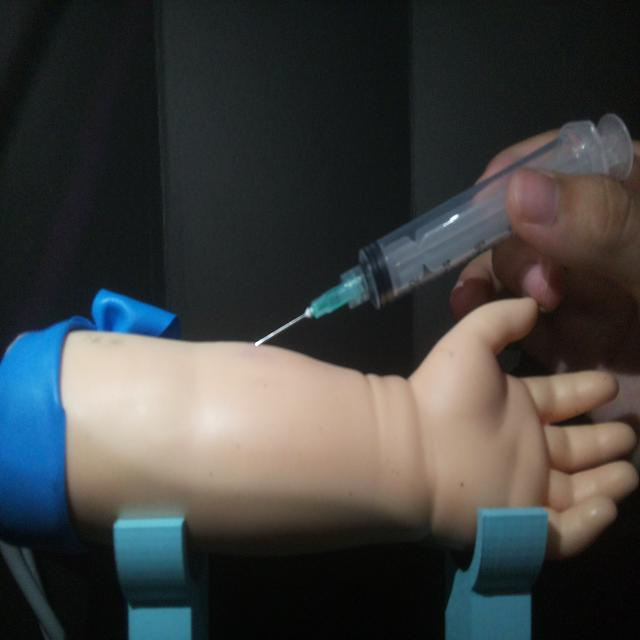26deg: (249, 108, 634, 351)
